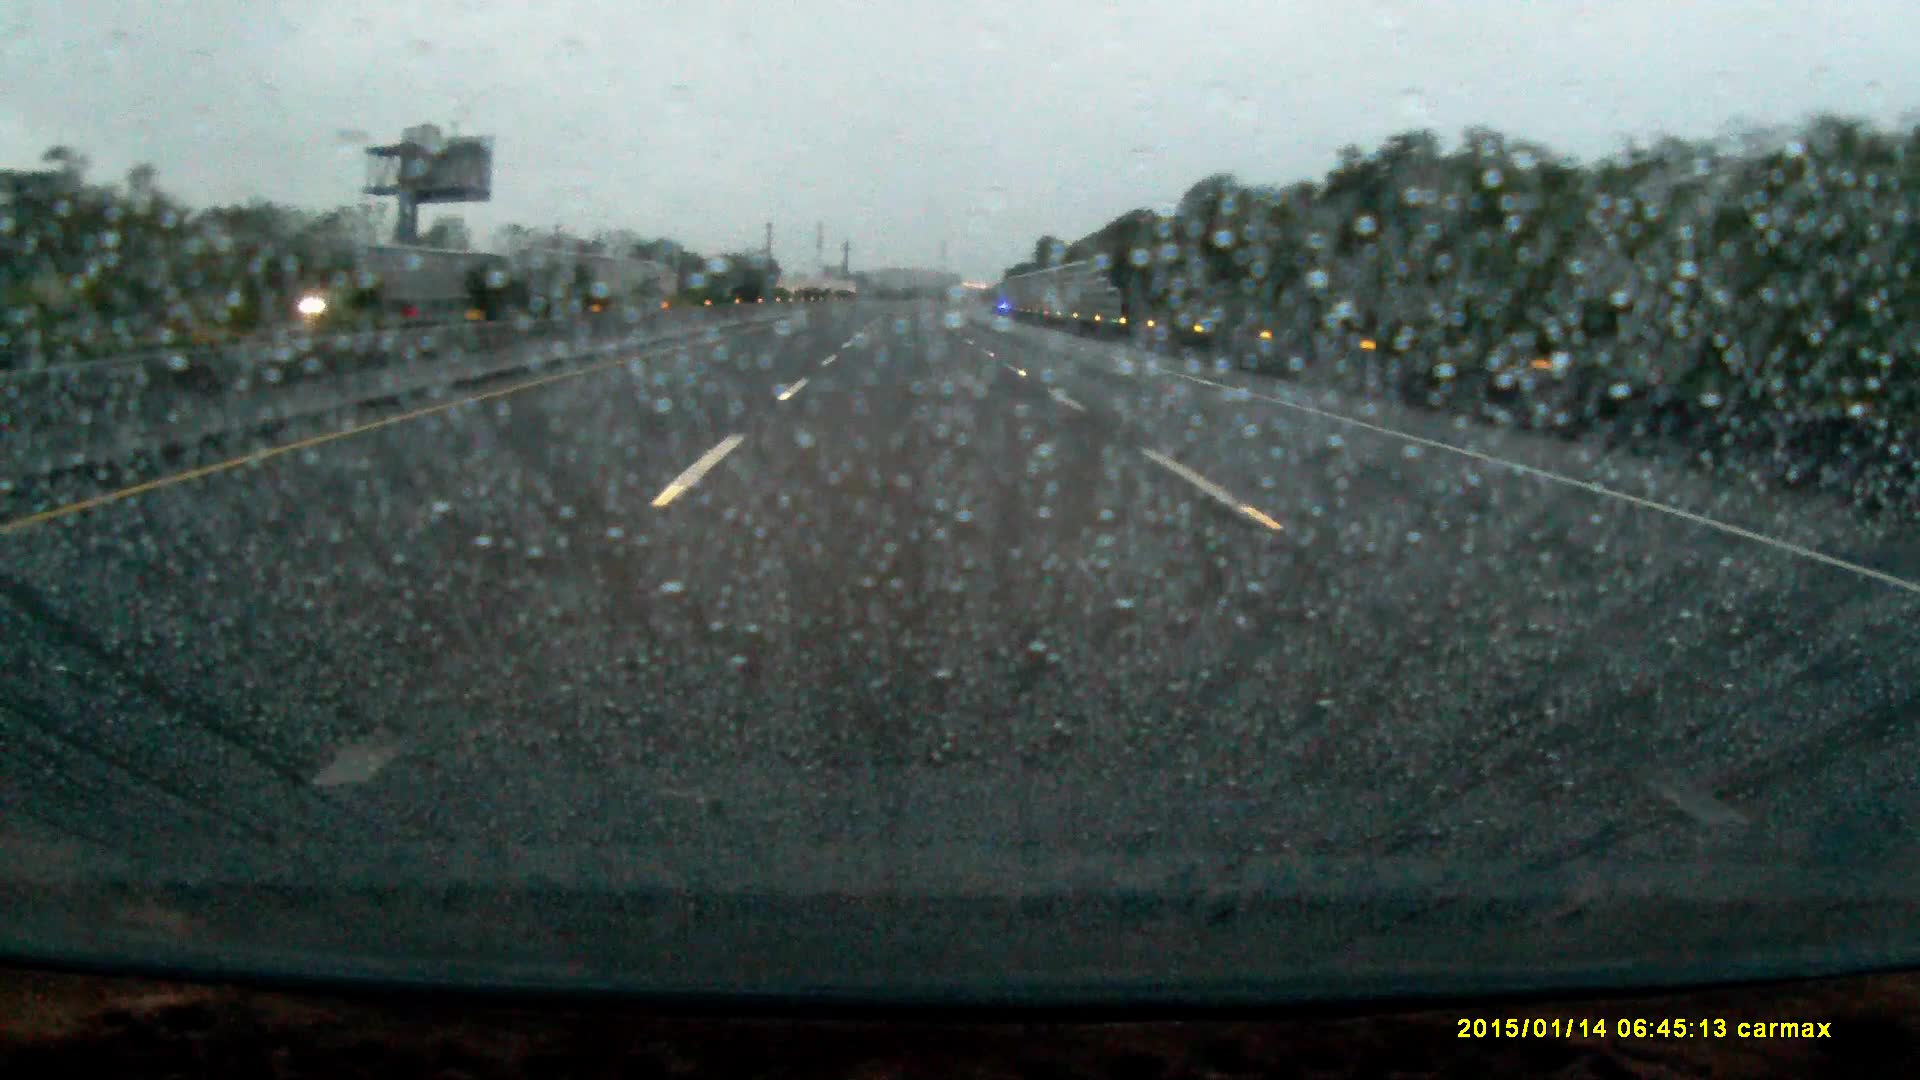vehicle: (278, 277, 419, 322)
